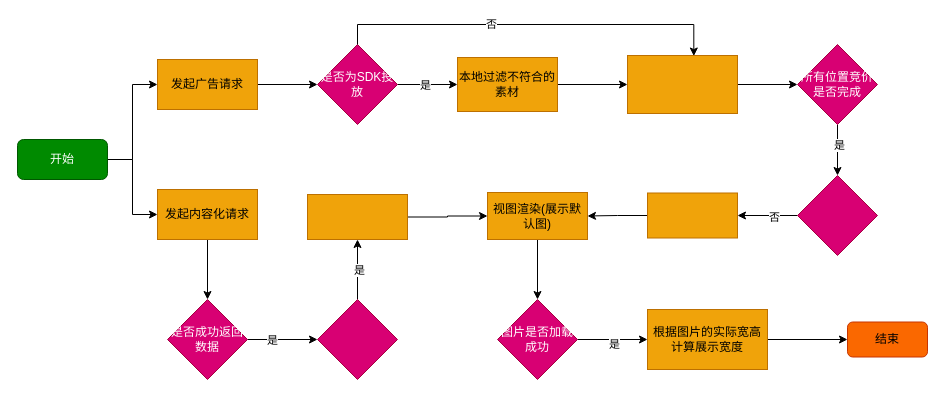
Image size: 945x397. Some labels were removed from this diagram. The centre of each missing label's shape, as x and y in pixels:
bidding竞价: (682,84)
合并数据: (357,217)
异步插入数据: (692,215)
是否已经合并进主版数据: (837,215)
是否有广告数据了: (357,339)
